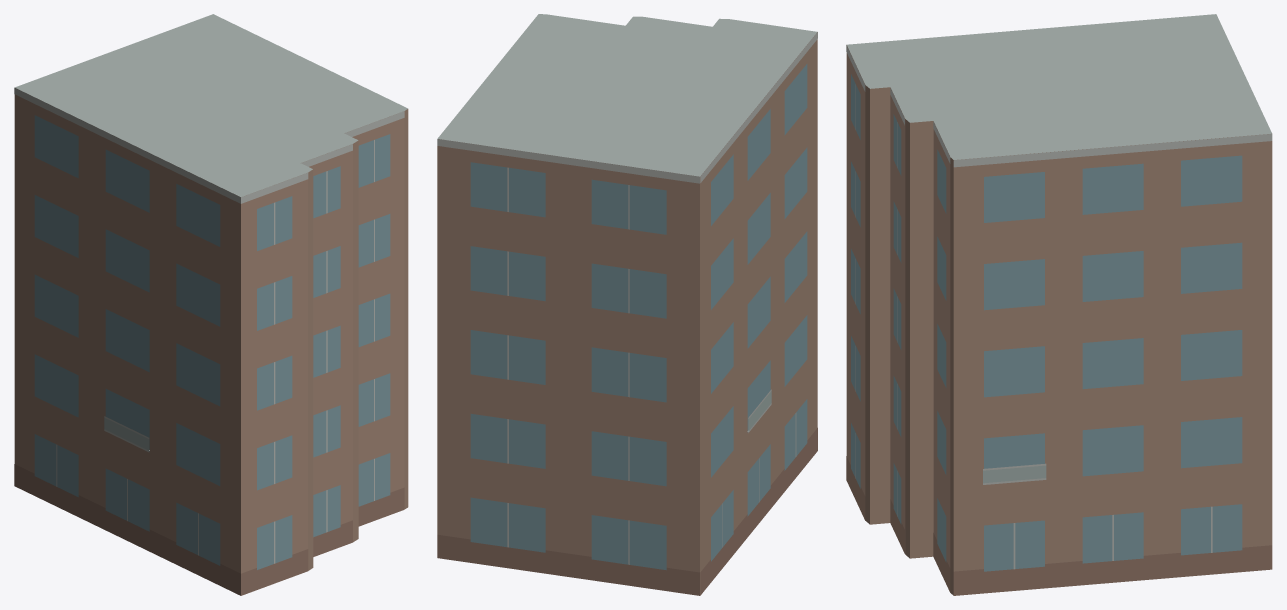
File: survey-upis-32718085.glb
3 renders of one model, left to right at view 1: azimuth 30°, elevation 25°; view 2: azimuth 150°, elevation 25°; view 3: azimuth 270°, elevation 25°, orthographic. The views are drawn at different scales.
Parts seen in each view (by area): view 1: survey-upis-32718085.tmp; view 2: survey-upis-32718085.tmp; view 3: survey-upis-32718085.tmp.
Part boxes in pixels (x1=…): survey-upis-32718085.tmp: x1=14, y1=14, x2=408, y2=595; survey-upis-32718085.tmp: x1=437, y1=14, x2=817, y2=595; survey-upis-32718085.tmp: x1=846, y1=14, x2=1272, y2=595.
Size of the model in its own units: 10.47 by 14.55 by 12.89.
